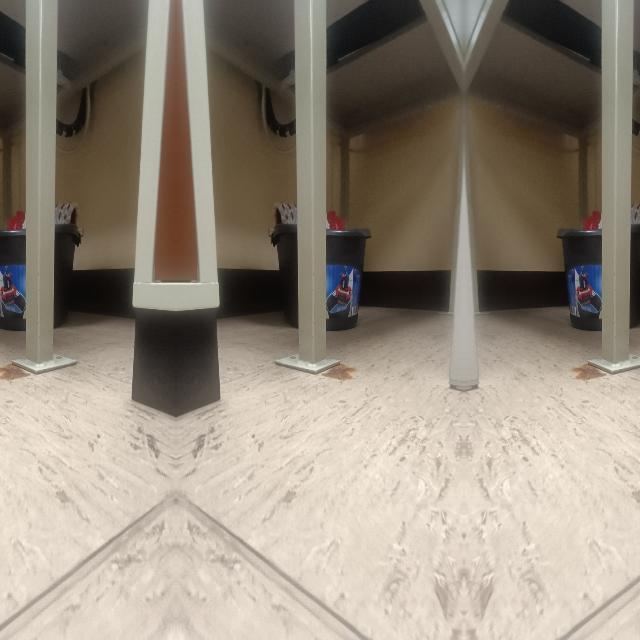obstacle: (275, 200, 345, 372), (5, 200, 75, 372), (176, 176, 224, 414), (126, 176, 174, 414), (582, 199, 640, 372)
